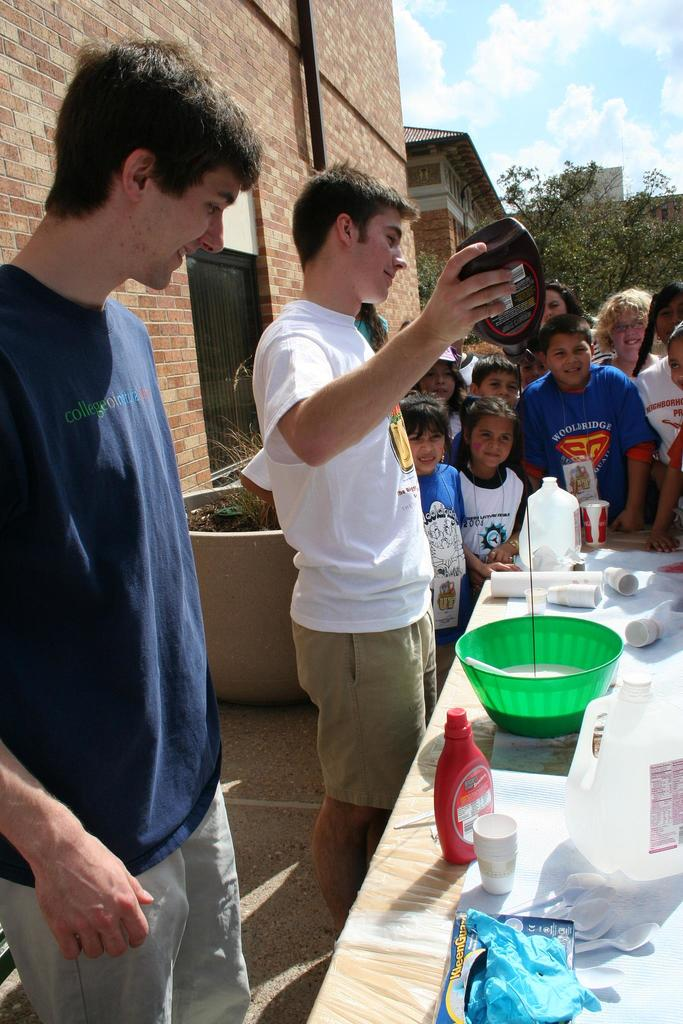Human_hand: (25, 787, 155, 977), (420, 241, 516, 342), (645, 529, 680, 552), (478, 559, 522, 577), (611, 510, 645, 531), (486, 545, 518, 562), (468, 570, 482, 596)
